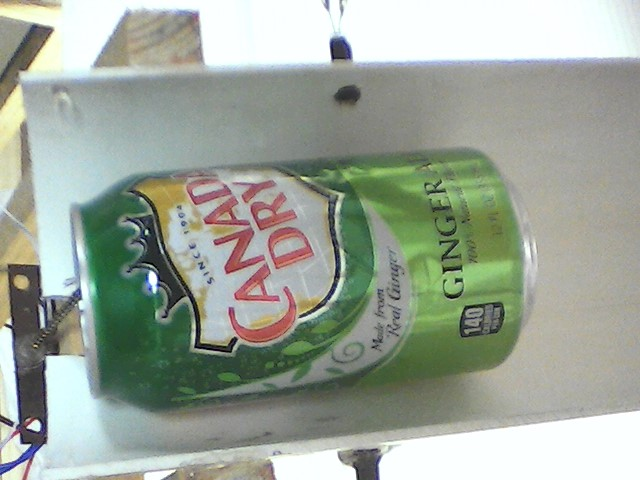lata: (68, 146, 545, 406)
